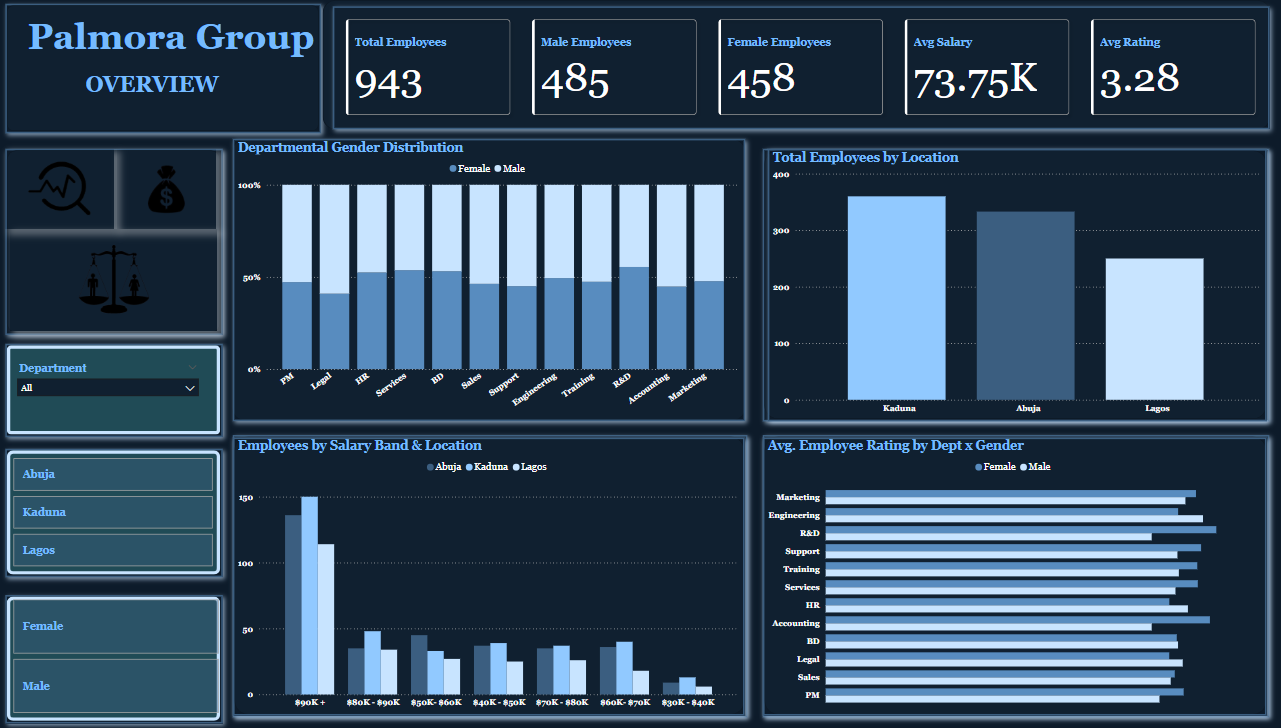

This screenshot's page, from the dashboard's own definition file:
{"tool":"powerbi","page":{"name":"Page 4","canvas":[1900,1080],"ordinal":3},"visuals":[{"type":"shape","box":[10,664,322,190],"z":0},{"type":"shape","box":[10,6,468,192],"z":1000},{"type":"shape","box":[480,0,1404,192],"z":2000},{"type":"shape","box":[10,220,322,276],"z":3000},{"type":"shape","box":[344,206,762,418],"z":4000},{"type":"shape","box":[1132,220,750,404],"z":5000},{"type":"shape","box":[346,644,762,418],"z":6000},{"type":"shape","box":[1132,644,750,418],"z":7000},{"type":"cardVisual","fields":{"Data":["Bonus Rules.total_employees","Bonus Rules.male employee","Bonus Rules.female employee","Bonus Rules.Avg_salary","Palmoria Group emp-data (2).AVG RATING"]},"box":[494,10,1388,182],"z":8000},{"type":"hundredPercentStackedColumnChart","title":"Departmental Gender Distribution","fields":{"Category":["Palmoria Group emp-data (2).Department"],"Series":["Palmoria Group emp-data (2).Gender"],"Y":["Bonus Rules.total_employees"]},"box":[346.3,205.6,759.3,418.5],"z":9000},{"type":"columnChart","title":"Total Employees by Location","fields":{"Category":["Palmoria Group emp-data (2).Location"],"Y":["Bonus Rules.total_employees"]},"box":[1131.5,220.4,746.3,403.7],"z":10000},{"type":"clusteredColumnChart","title":"Employees  by Salary Band & Location","fields":{"Category":["Palmoria Group emp-data (2).Salary Band "],"Y":["Bonus Rules.total_employees"],"Series":["Palmoria Group emp-data (2).Location"]},"box":[346.3,648.1,757.4,424.1],"z":11000},{"type":"clusteredBarChart","title":"Avg. Employee Rating by Dept x Gender","fields":{"Category":["Palmoria Group emp-data (2).Department"],"Y":["Palmoria Group emp-data (2).AVG RATING"],"Series":["Palmoria Group emp-data (2).Gender"]},"box":[1131.5,648.1,746.3,414.8],"z":12000},{"type":"shape","box":[10,882,322,190],"z":13000},{"type":"advancedSlicerVisual","fields":{"Values":["Palmoria Group emp-data (2).Gender"]},"box":[16.7,883.3,314.8,179.6],"z":14000},{"type":"advancedSlicerVisual","fields":{"Values":["Palmoria Group emp-data (2).Location"]},"box":[16.7,674.1,305.6,170.4],"z":15000},{"type":"shape","box":[10,510,322,138],"z":16000},{"type":"slicer","fields":{"Values":["Palmoria Group emp-data (2).Department"]},"box":[16.7,531.5,288.9,92.6],"z":17000},{"type":"textbox","box":[16.7,18.5,463,83.3],"z":18000},{"type":"textbox","box":[116.7,101.9,227.8,48.1],"z":19000},{"type":"image","box":[9.3,220.4,161.1,118.5],"z":20000},{"type":"image","box":[16.7,338.9,305.6,151.9],"z":21000},{"type":"image","box":[174.1,220.4,148.1,118.5],"z":22000}]}

Visuals, with their boxes in screenshot pixels (x1, y1, x2, y2), scaled from the page's 1900x1080 canvas onto the 1281x728 screenshot:
shape: detection(7, 448, 224, 576)
shape: detection(7, 4, 322, 133)
shape: detection(324, 0, 1270, 129)
shape: detection(7, 148, 224, 334)
shape: detection(232, 139, 746, 421)
shape: detection(763, 148, 1269, 421)
shape: detection(233, 434, 747, 716)
shape: detection(763, 434, 1269, 716)
cardVisual - Bonus Rules.total_employees x Bonus Rules.male employee: detection(333, 7, 1269, 129)
"Departmental Gender Distribution" hundredPercentStackedColumnChart: detection(233, 139, 745, 421)
"Total Employees by Location" columnChart: detection(763, 149, 1266, 421)
"Employees  by Salary Band & Location" clusteredColumnChart: detection(233, 437, 744, 723)
"Avg. Employee Rating by Dept x Gender" clusteredBarChart: detection(763, 437, 1266, 716)
shape: detection(7, 595, 224, 723)
advancedSlicerVisual - Palmoria Group emp-data (2).Gender: detection(11, 595, 224, 716)
advancedSlicerVisual - Palmoria Group emp-data (2).Location: detection(11, 454, 217, 569)
shape: detection(7, 344, 224, 437)
slicer - Palmoria Group emp-data (2).Department: detection(11, 358, 206, 421)
textbox: detection(11, 12, 323, 69)
textbox: detection(79, 69, 232, 101)
image: detection(6, 149, 115, 228)
image: detection(11, 228, 217, 331)
image: detection(117, 149, 217, 228)
